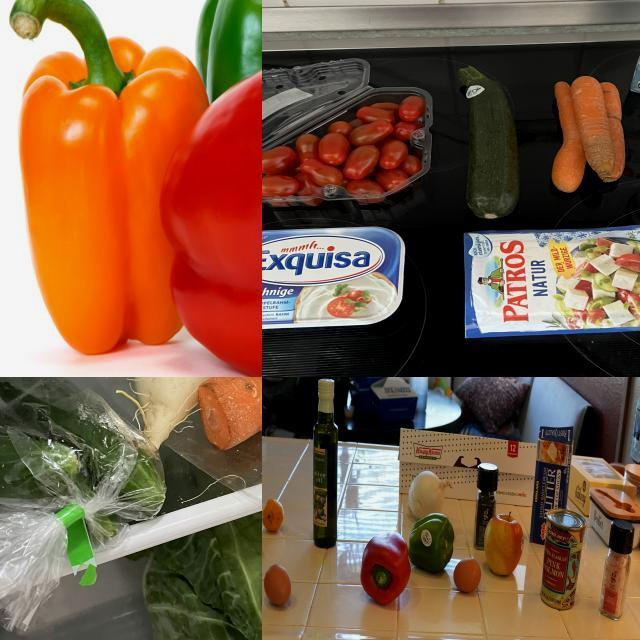bell_pepper: (9, 1, 203, 358), (166, 52, 263, 377), (358, 535, 414, 609), (413, 513, 452, 575), (470, 461, 498, 547)
cabbage: (143, 486, 263, 640)
carrot: (572, 69, 620, 181), (549, 76, 595, 192), (197, 378, 263, 454), (593, 74, 635, 186)
egg: (264, 565, 296, 609), (454, 557, 482, 597)
onion: (407, 471, 455, 521)
tomato: (263, 93, 431, 207)
zucchini: (452, 60, 529, 228)
